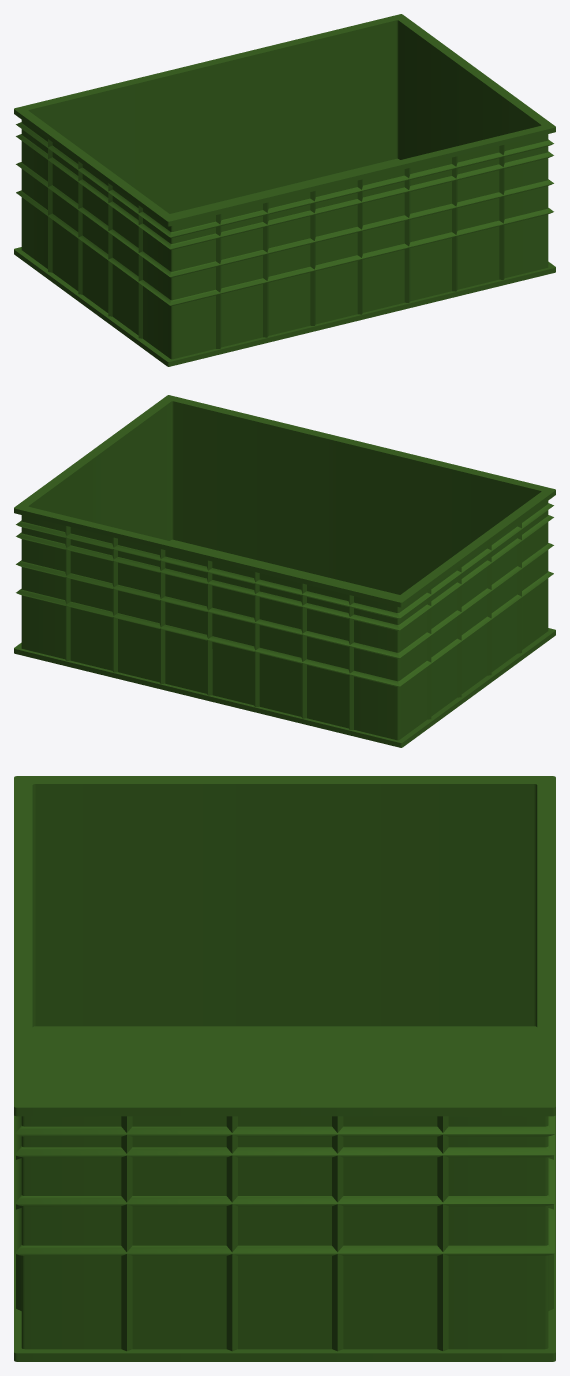
The picture shows the model from 3 angles, top to bottom: view 1: azimuth 30°, elevation 25°; view 2: azimuth 150°, elevation 25°; view 3: azimuth 270°, elevation 25°; orthographic projection. The views are drawn at different scales.
Visible parts, largest first — view 1: Box033; view 2: Box033; view 3: Box033.
Boxes of the visible parts, <box> form: Box033: <box>14,14,555,366</box>; Box033: <box>14,395,555,747</box>; Box033: <box>14,776,555,1361</box>.
Bounding box in the file's own units: 16.54 × 5.91 × 11.42.
